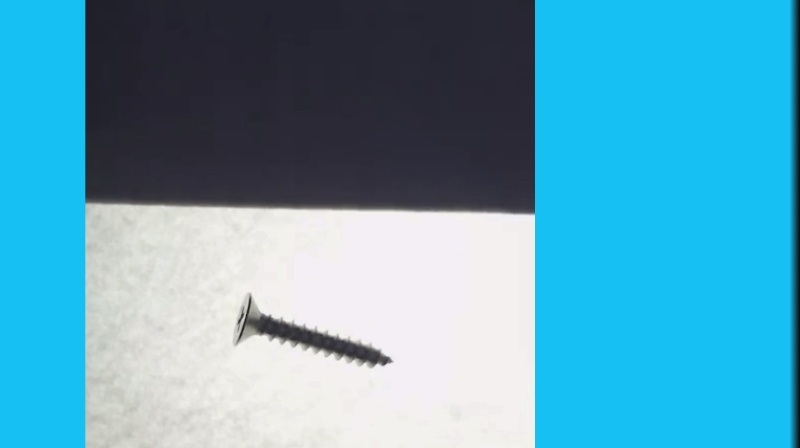S001: (225, 286, 397, 373)
